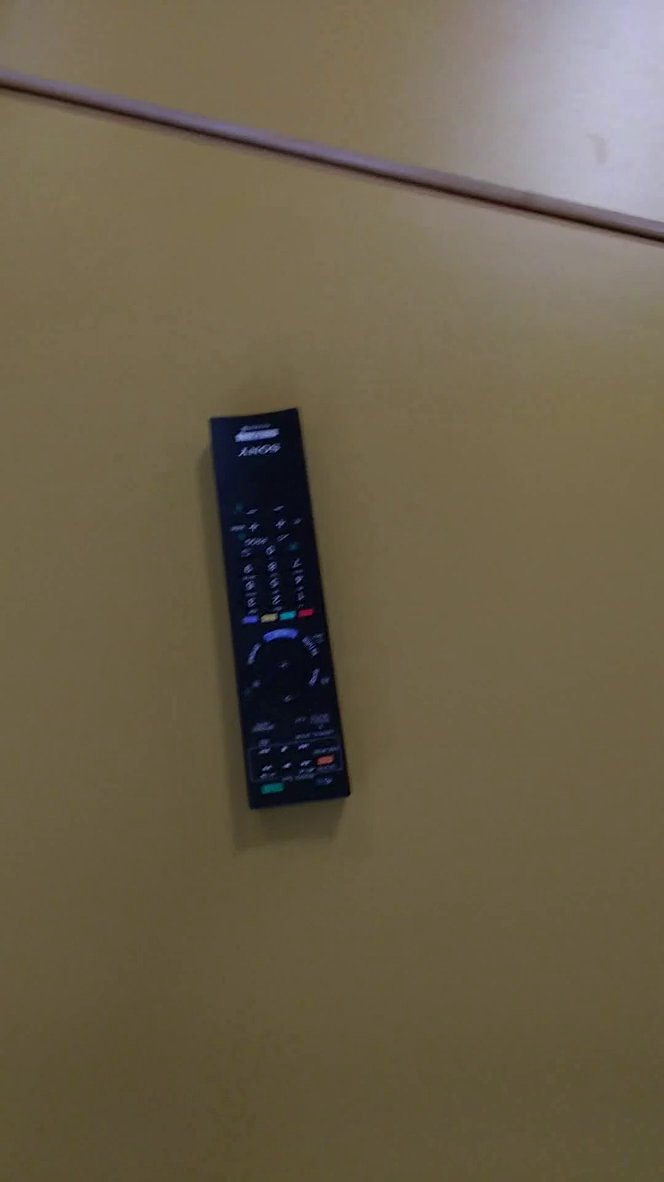remote: (194, 387, 369, 835)
